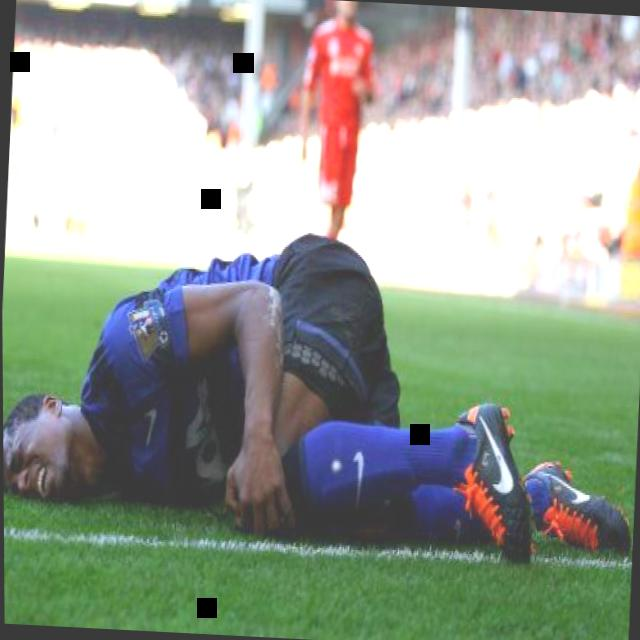Fall-Detected: (1, 208, 629, 579)
